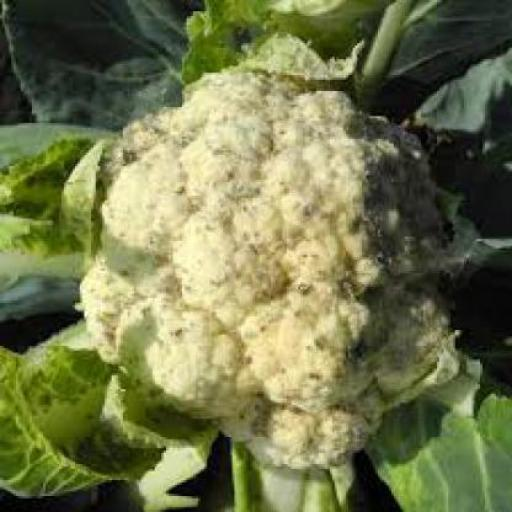biodegradable: (0, 0, 510, 510), (55, 48, 494, 469)
